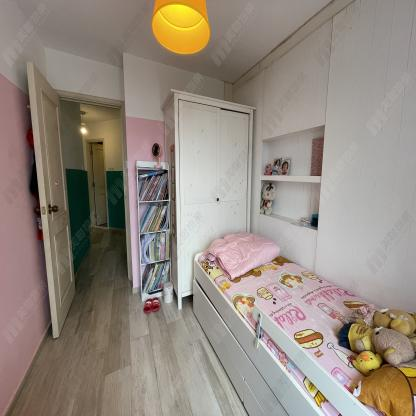Bed: (196, 244, 413, 416)
Closet: (162, 87, 258, 305)
Door: (25, 60, 77, 343)
